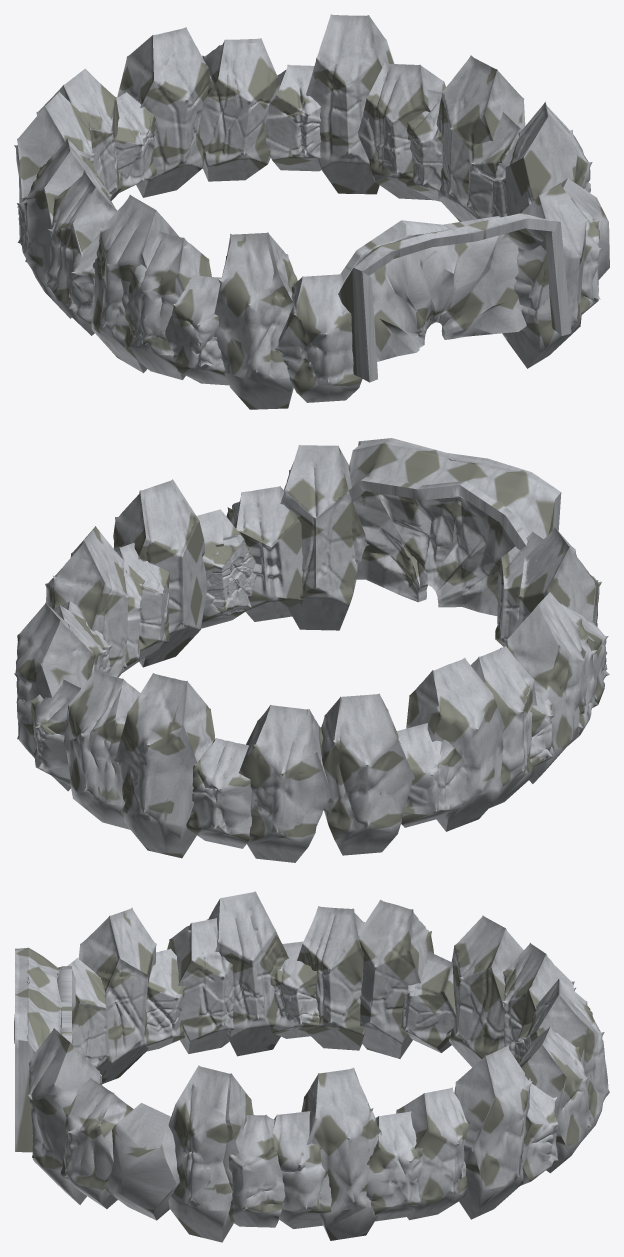
File: quarry-limestone.glb
3 renders of one model, top to bottom at view 1: azimuth 30°, elevation 25°; view 2: azimuth 150°, elevation 25°; view 3: azimuth 270°, elevation 25°, orthographic. The views are drawn at different scales.
Parts seen in each view (by area): view 1: Quarry_Exit_LOD0, Quarry_Rock_25_LOD0, Quarry_Rock_14_LOD0, Quarry_Rock_11_LOD0, Quarry_Rock_13_LOD0, Quarry_Crown_LOD0, Quarry_Rock_26_LOD0, Quarry_Rock_08_LOD0, Quarry_Rock_02_LOD0, Quarry_Rock_23_LOD0, Quarry_Rock_10_LOD0, Quarry_Rock_22_LOD0 (+14 smaller); view 2: Quarry_Exit_LOD0, Quarry_Rock_14_LOD0, Quarry_Rock_17_LOD0, Quarry_Rock_02_LOD0, Quarry_Crown_LOD0, Quarry_Rock_16_LOD0, Quarry_Rock_19_LOD0, Quarry_Rock_05_LOD0, Quarry_Rock_13_LOD0, Quarry_Rock_22_LOD0, Quarry_Rock_03_LOD0, Quarry_Rock_08_LOD0 (+14 smaller); view 3: Quarry_Rock_05_LOD0, Quarry_Rock_11_LOD0, Quarry_Rock_08_LOD0, Quarry_Rock_19_LOD0, Quarry_Rock_22_LOD0, Quarry_Rock_25_LOD0, Quarry_Rock_17_LOD0, Quarry_Rock_20_LOD0, Quarry_Rock_23_LOD0, Quarry_Rock_02_LOD0, Quarry_Rock_04_LOD0, Quarry_Rock_10_LOD0 (+14 smaller).
Boxes of the visible parts, x1,y1,x2,y2 form: Quarry_Exit_LOD0: (340,216,526,361); Quarry_Rock_25_LOD0: (213,232,297,409); Quarry_Rock_14_LOD0: (117,27,211,197); Quarry_Rock_11_LOD0: (306,14,394,194); Quarry_Rock_13_LOD0: (199,38,279,181); Quarry_Crown_LOD0: (338,213,571,382); Quarry_Rock_26_LOD0: (274,274,362,402); Quarry_Rock_08_LOD0: (436,55,525,221); Quarry_Rock_02_LOD0: (502,182,587,368); Quarry_Rock_23_LOD0: (124,231,211,379); Quarry_Rock_10_LOD0: (358,63,445,200); Quarry_Rock_22_LOD0: (91,195,178,373); Quarry_Exit_LOD0: (353,476,527,616); Quarry_Rock_14_LOD0: (114,673,215,858); Quarry_Rock_17_LOD0: (321,693,414,855); Quarry_Rock_02_LOD0: (280,445,368,630); Quarry_Crown_LOD0: (348,438,561,550); Quarry_Rock_16_LOD0: (239,705,333,862); Quarry_Rock_19_LOD0: (406,658,504,831); Quarry_Rock_05_LOD0: (113,479,206,667); Quarry_Rock_13_LOD0: (63,671,140,829); Quarry_Rock_22_LOD0: (500,592,584,783); Quarry_Rock_03_LOD0: (226,486,303,621); Quarry_Rock_08_LOD0: (45,526,129,677); Quarry_Rock_05_LOD0: (168,1065,253,1242); Quarry_Rock_11_LOD0: (454,1045,532,1219); Quarry_Rock_08_LOD0: (301,1067,382,1240); Quarry_Rock_19_LOD0: (358,899,433,1058); Quarry_Rock_22_LOD0: (207,891,289,1056); Quarry_Rock_25_LOD0: (78,907,156,1083); Quarry_Rock_17_LOD0: (449,915,523,1067); Quarry_Rock_20_LOD0: (297,906,365,1050); Quarry_Rock_23_LOD0: (167,918,234,1053); Quarry_Rock_02_LOD0: (28,1028,102,1204); Quarry_Rock_04_LOD0: (106,1103,179,1220); Quarry_Rock_10_LOD0: (396,1087,469,1220).
Size of what is drawn, in the model's own units: 143 by 51.46 by 163.
1 material, 1 textured.
